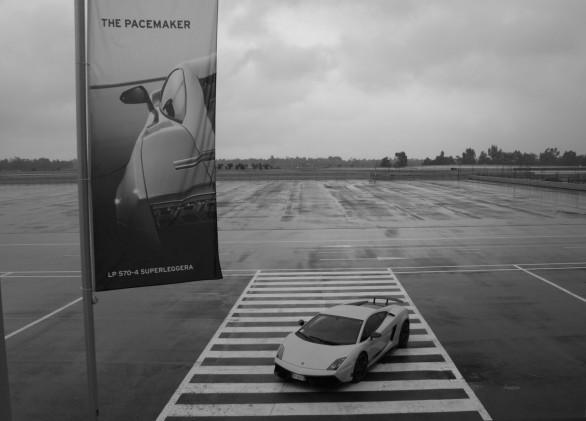car: (118, 53, 217, 230)
